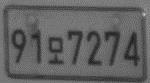1: (29, 28, 42, 65)
2: (86, 30, 104, 66)
4: (124, 31, 142, 67)
7: (102, 30, 121, 67), (66, 29, 84, 67)
9: (10, 28, 27, 63)
모: (46, 36, 64, 66)
